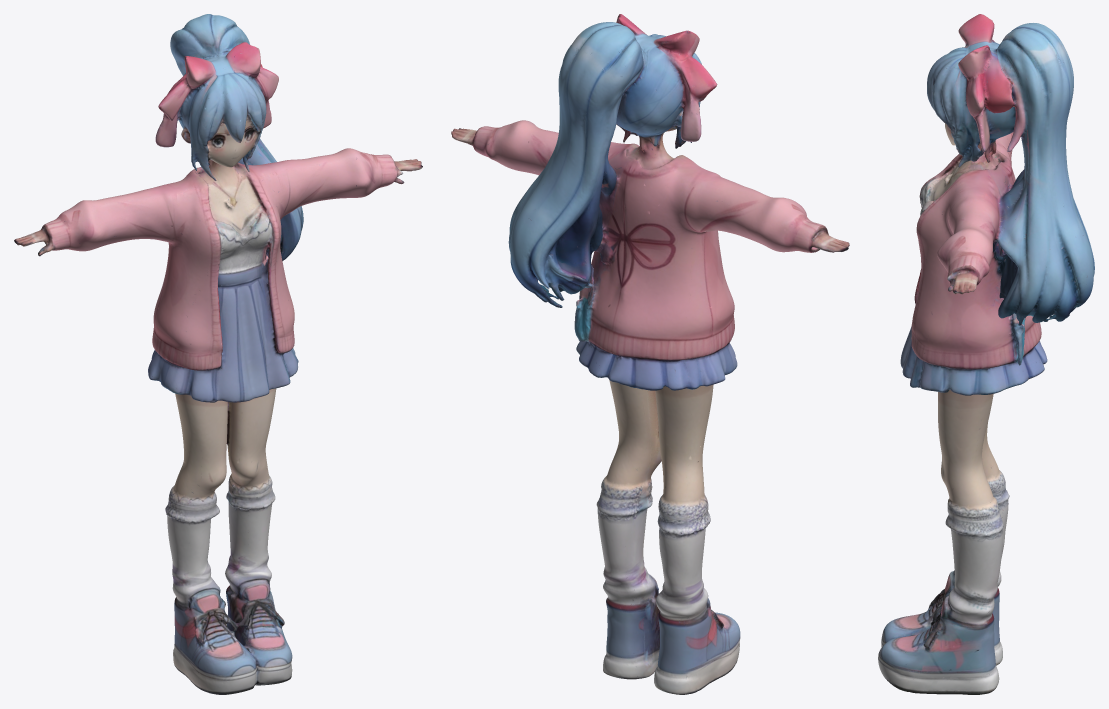
Rendered from Meshy_AI_Pastel_Dream_Outfit_0510064733_texture.fbx.
3 views of the same model, side by side, from view 1: azimuth 30°, elevation 25°; view 2: azimuth 150°, elevation 25°; view 3: azimuth 270°, elevation 25° (orthographic). The views are drawn at different scales.
Visible parts, largest first — view 1: Mesh_0; view 2: Mesh_0; view 3: Mesh_0.
Part boxes in pixels (box(x1,y1,x2,y2)): Mesh_0: box(14, 14, 422, 694); Mesh_0: box(451, 14, 849, 694); Mesh_0: box(878, 14, 1094, 694).
Size of the model in its own units: 130 by 200 by 60.08.
1 material, 1 textured.
